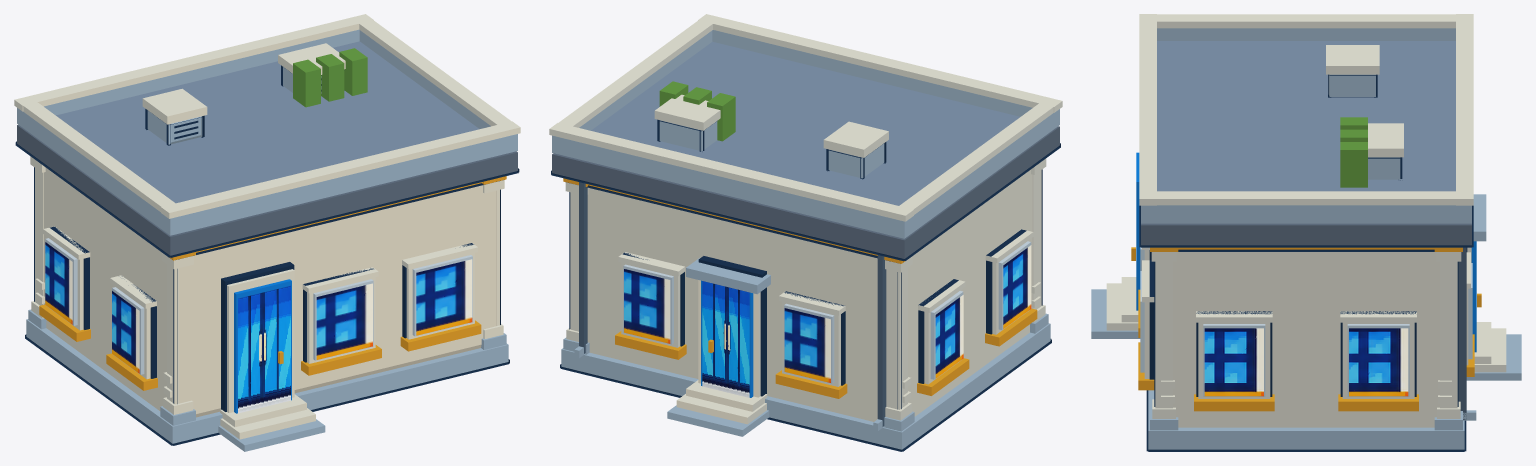
3 views of the same model, side by side, from view 1: azimuth 30°, elevation 25°; view 2: azimuth 150°, elevation 25°; view 3: azimuth 270°, elevation 25° (orthographic). The views are drawn at different scales.
Parts seen in each view (by area): view 1: H06 平顶露台屋; view 2: H06 平顶露台屋; view 3: H06 平顶露台屋.
Part boxes in pixels (x1,y1,x2,y2): H06 平顶露台屋: (14,14,520,451); H06 平顶露台屋: (549,14,1062,451); H06 平顶露台屋: (1091,14,1521,451).
Size of the model in its own units: 6.64 by 4.57 by 6.51.
2 materials, 1 textured.
